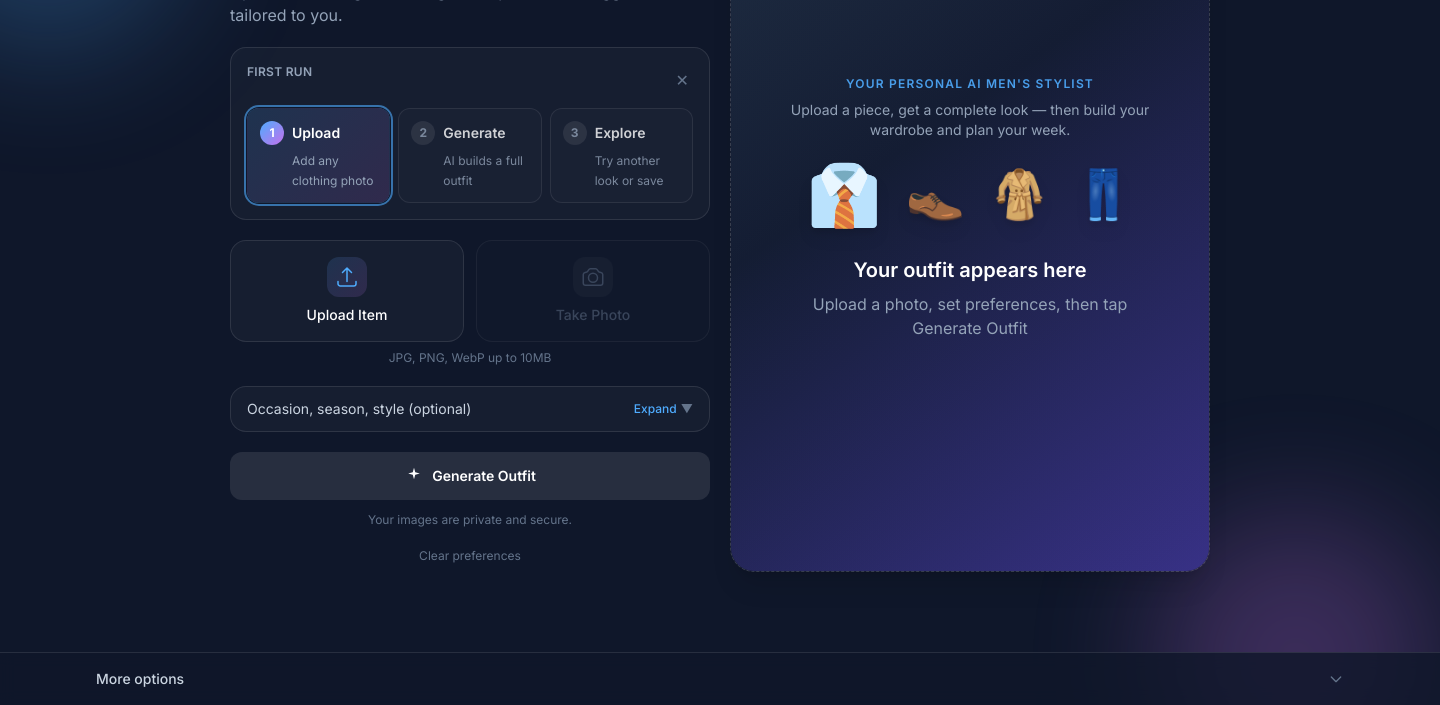
Test: Mobile-friendly layout and touch targets › Navigation (App) › Guide is in the footer (not primary nav) with touch-friendly classes
(page scrolled)
Expected: the link "Guide" is not shown
What coordinates should you click on to do the following:
click the button "More options"
I would click on:
 (140, 678)
Its box is [96, 653, 1344, 704].
(page scrolled)
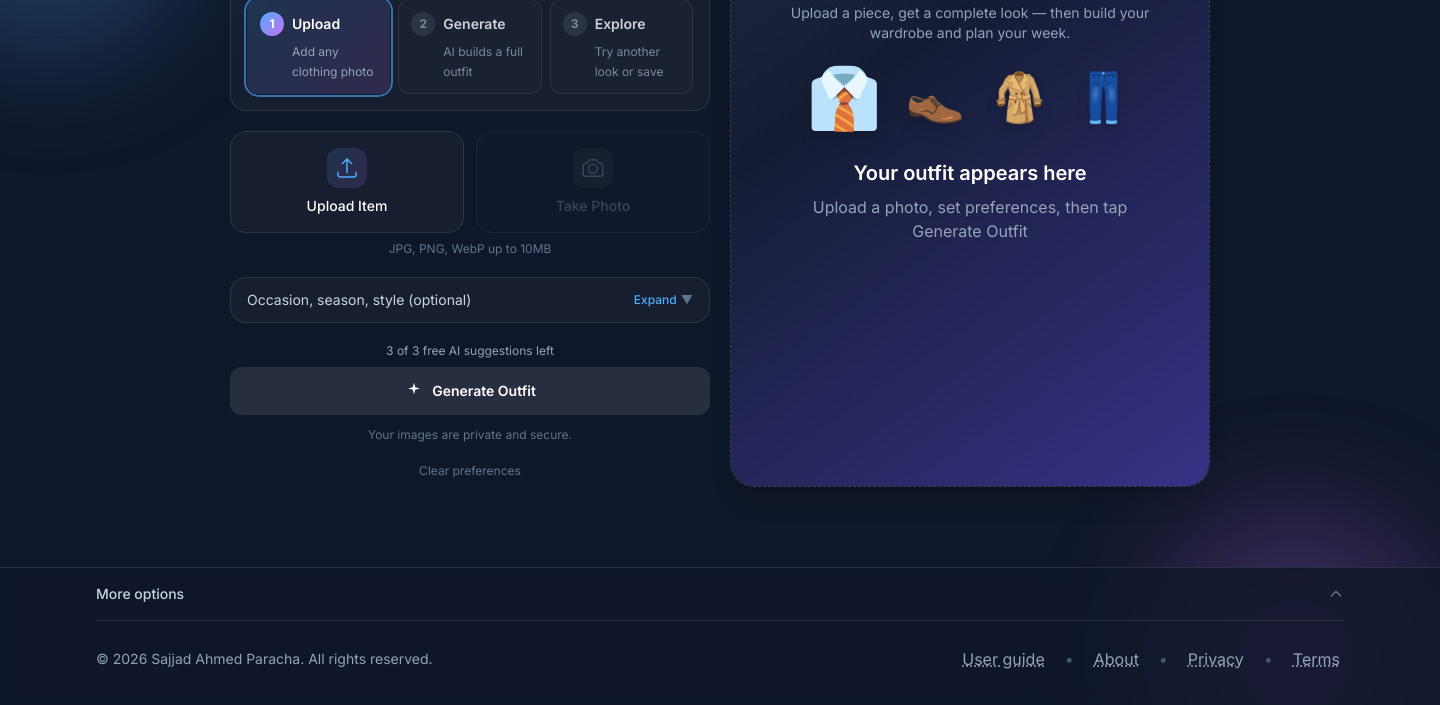
Expected: the button with aria-label "Open user guide" is shown, [958, 637, 1049, 681]
